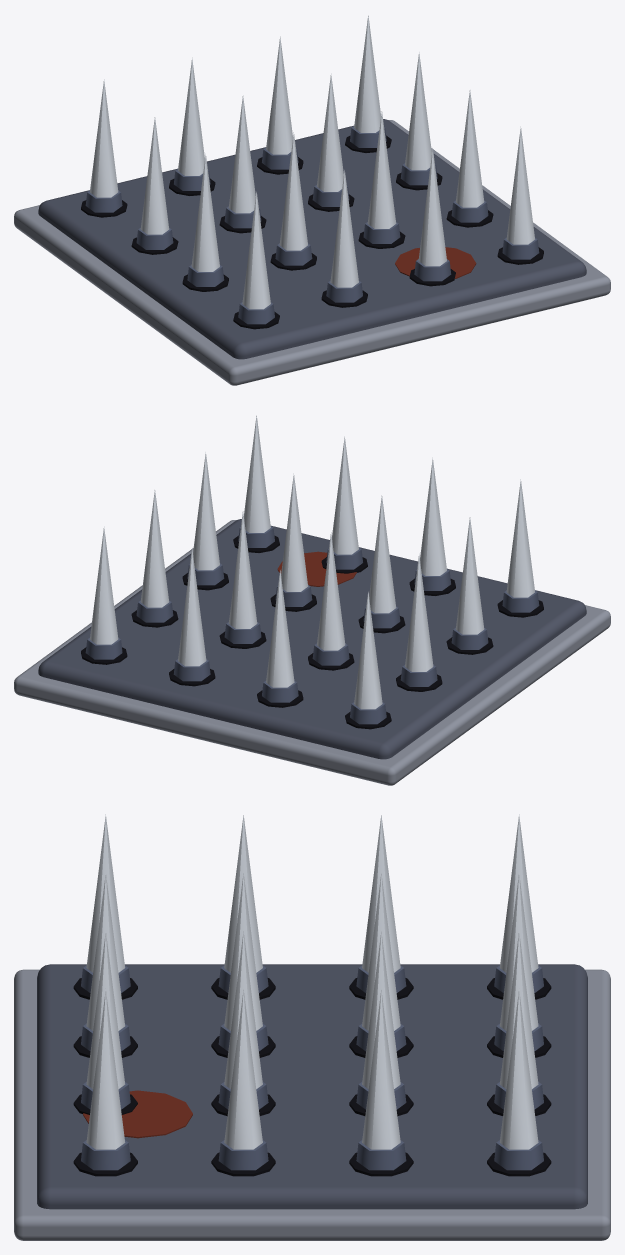
Rendered from prop_trap_spikes.glb.
3 views of the same model, one above another, from view 1: azimuth 30°, elevation 25°; view 2: azimuth 150°, elevation 25°; view 3: azimuth 270°, elevation 25° (orthographic). The views are drawn at different scales.
Parts seen in each view (by area): view 1: Plate, Frame, Spike03, Spike23, Spike12, Spike00, Spike32, Spike33, Spike01, Spike13, Spike02, Spike22 (+17 smaller); view 2: Plate, Frame, Spike00, Spike20, Spike11, Spike03, Spike30, Spike31, Spike02, Spike10, Spike01, Spike21 (+17 smaller); view 3: Plate, Frame, Spike30, Spike33, Spike31, Spike32, Stain, Spike00, Spike03, Spike10, Spike13, Spike01 (+15 smaller).
Boxes of the visible parts, x1,y1,x2,y2 form: Plate: [38, 119, 586, 359]; Frame: [14, 120, 610, 385]; Spike03: [242, 191, 270, 309]; Spike23: [418, 148, 446, 266]; Spike12: [279, 132, 307, 250]; Spike00: [90, 79, 118, 197]; Spike32: [455, 90, 484, 207]; Spike33: [506, 126, 535, 244]; Spike01: [140, 117, 169, 234]; Spike13: [330, 170, 358, 287]; Spike02: [191, 153, 219, 271]; Spike22: [367, 111, 396, 228]; Plate: [38, 519, 586, 759]; Frame: [14, 520, 610, 785]; Spike00: [354, 591, 382, 709]; Spike20: [178, 548, 206, 666]; Spike11: [317, 532, 345, 650]; Spike03: [506, 479, 534, 597]; Spike30: [89, 526, 118, 644]; Spike31: [140, 490, 169, 607]; Spike02: [455, 517, 484, 634]; Spike10: [266, 570, 294, 687]; Spike01: [405, 553, 433, 671]; Spike21: [228, 511, 257, 628]; Plate: [37, 964, 587, 1209]; Frame: [14, 969, 610, 1240]; Spike30: [499, 989, 538, 1149]; Spike33: [86, 989, 125, 1149]; Spike31: [362, 990, 400, 1149]; Spike32: [224, 990, 262, 1149]; Stain: [83, 1090, 192, 1138]; Spike00: [499, 814, 538, 972]; Spike03: [86, 814, 125, 972]; Spike10: [499, 872, 538, 1030]; Spike13: [86, 872, 125, 1030]; Spike01: [362, 815, 400, 972].
Bounding box in the file's own units: 1.3 × 0.52 × 1.3.
